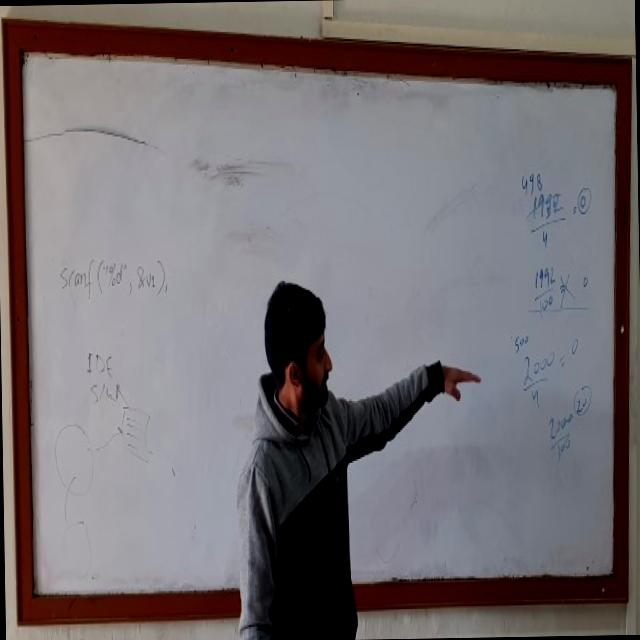Instructor: (236, 261, 366, 640)
White-board: (10, 34, 626, 610)
